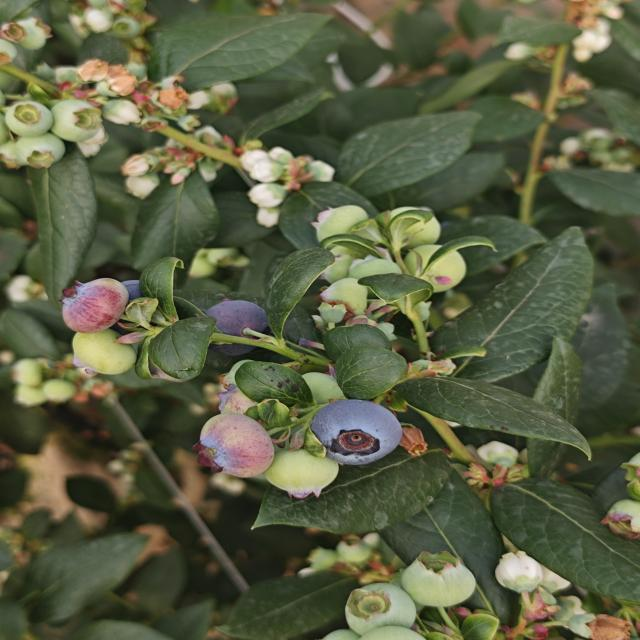ripe: (304, 395, 394, 464), (195, 293, 274, 348), (96, 275, 166, 336)
